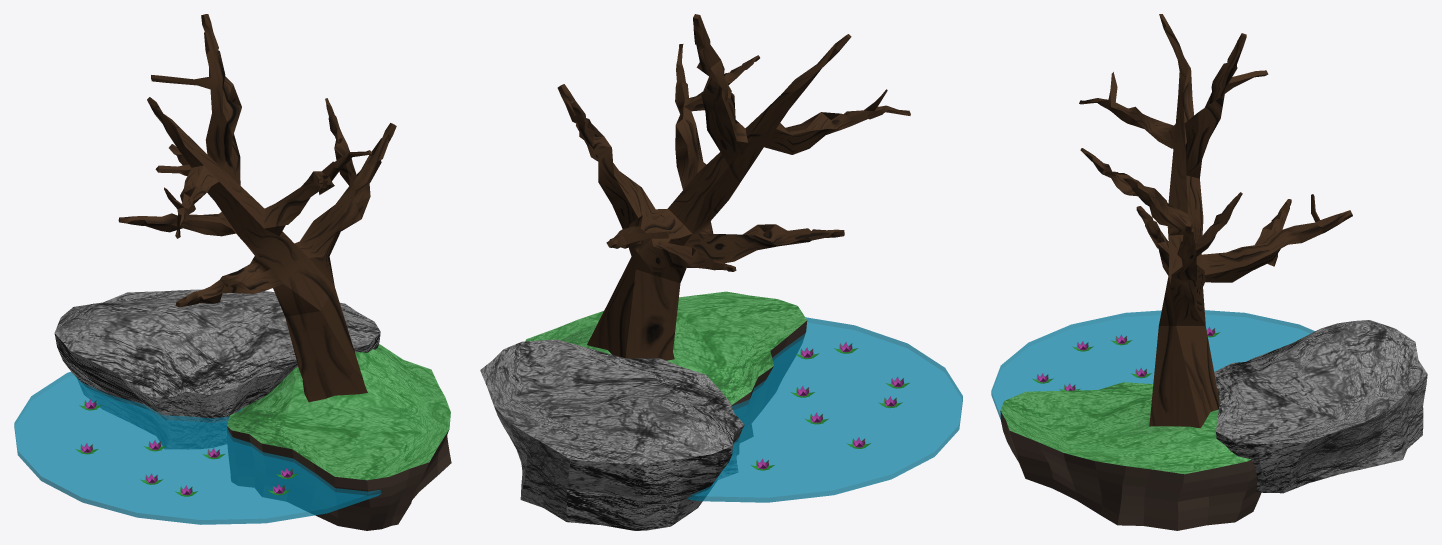
Rendered from pond2.glb.
The picture shows the model from 3 angles, left to right: view 1: azimuth 30°, elevation 25°; view 2: azimuth 150°, elevation 25°; view 3: azimuth 270°, elevation 25°; orthographic projection. The views are drawn at different scales.
Parts seen in each view (by area): view 1: pCylinder1, pCube19, pasted__pCube1, pasted__pCube2; view 2: pasted__pCube1, pCube19, pCylinder1, pasted__pCube2; view 3: pasted__pCube1, pasted__pCube2, pCube19, pCylinder1.
Part boxes in pixels (x1,y1,x2,y2): pCylinder1: (14, 371, 381, 524); pCube19: (118, 14, 396, 402); pasted__pCube1: (54, 289, 380, 449); pasted__pCube2: (227, 344, 451, 530); pasted__pCube1: (480, 339, 744, 530); pCube19: (557, 14, 910, 360); pCylinder1: (687, 317, 962, 502); pasted__pCube2: (525, 291, 807, 454); pasted__pCube1: (1214, 320, 1427, 493); pasted__pCube2: (1000, 382, 1261, 530); pCube19: (1079, 14, 1352, 427); pCylinder1: (991, 310, 1314, 420).
Bounding box in the file's own units: 18.61 × 21.7 × 19.45.
7 materials, 5 textured.
